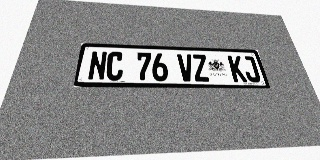6: (152, 53, 168, 81)
7: (136, 52, 152, 81)
C: (105, 51, 124, 81)
J: (241, 56, 261, 82)
K: (227, 55, 247, 82)
N: (87, 51, 107, 81)
V: (177, 54, 195, 81)
Z: (192, 54, 210, 82)
